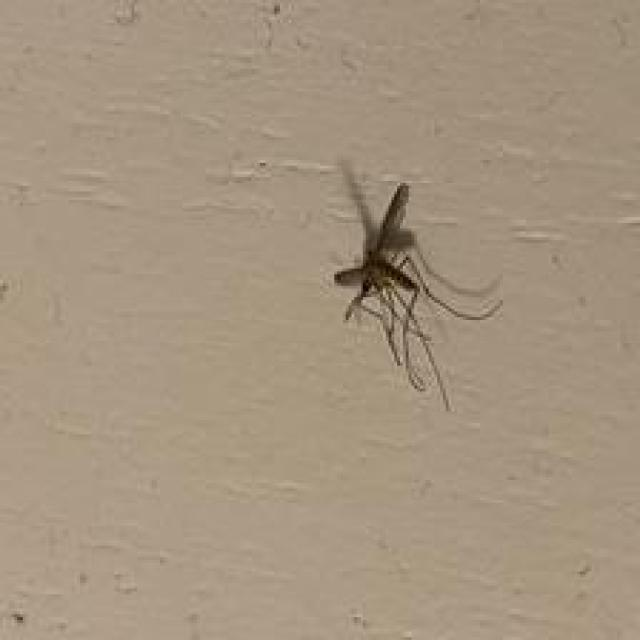Culex: (330, 157, 504, 412)
